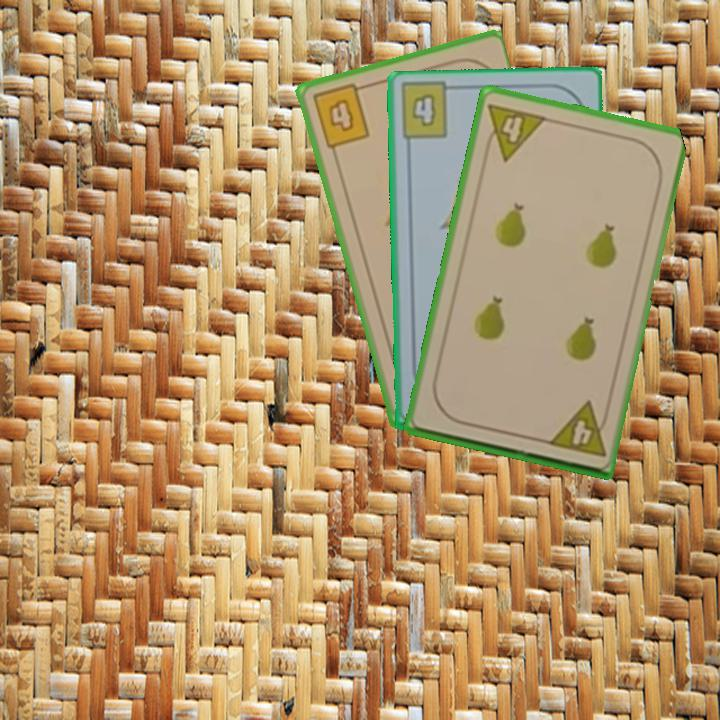4b: (308, 80, 372, 151), (408, 90, 439, 129)
4p: (479, 99, 549, 164), (544, 398, 612, 460)
